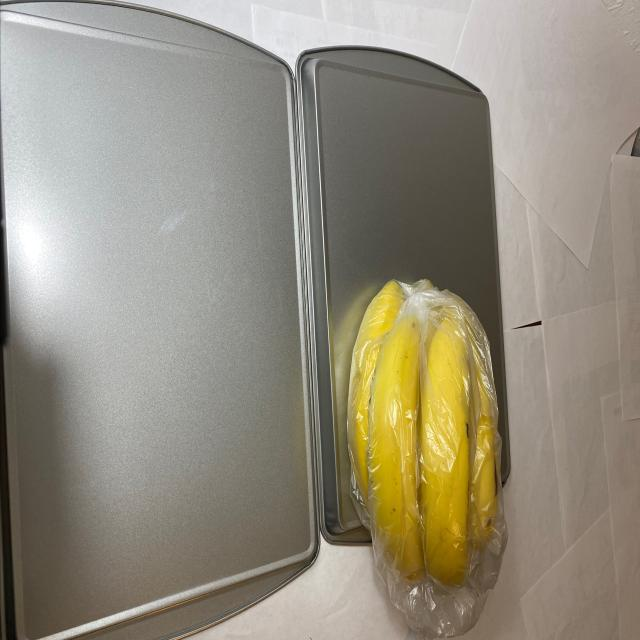banana: (338, 273, 496, 596)
